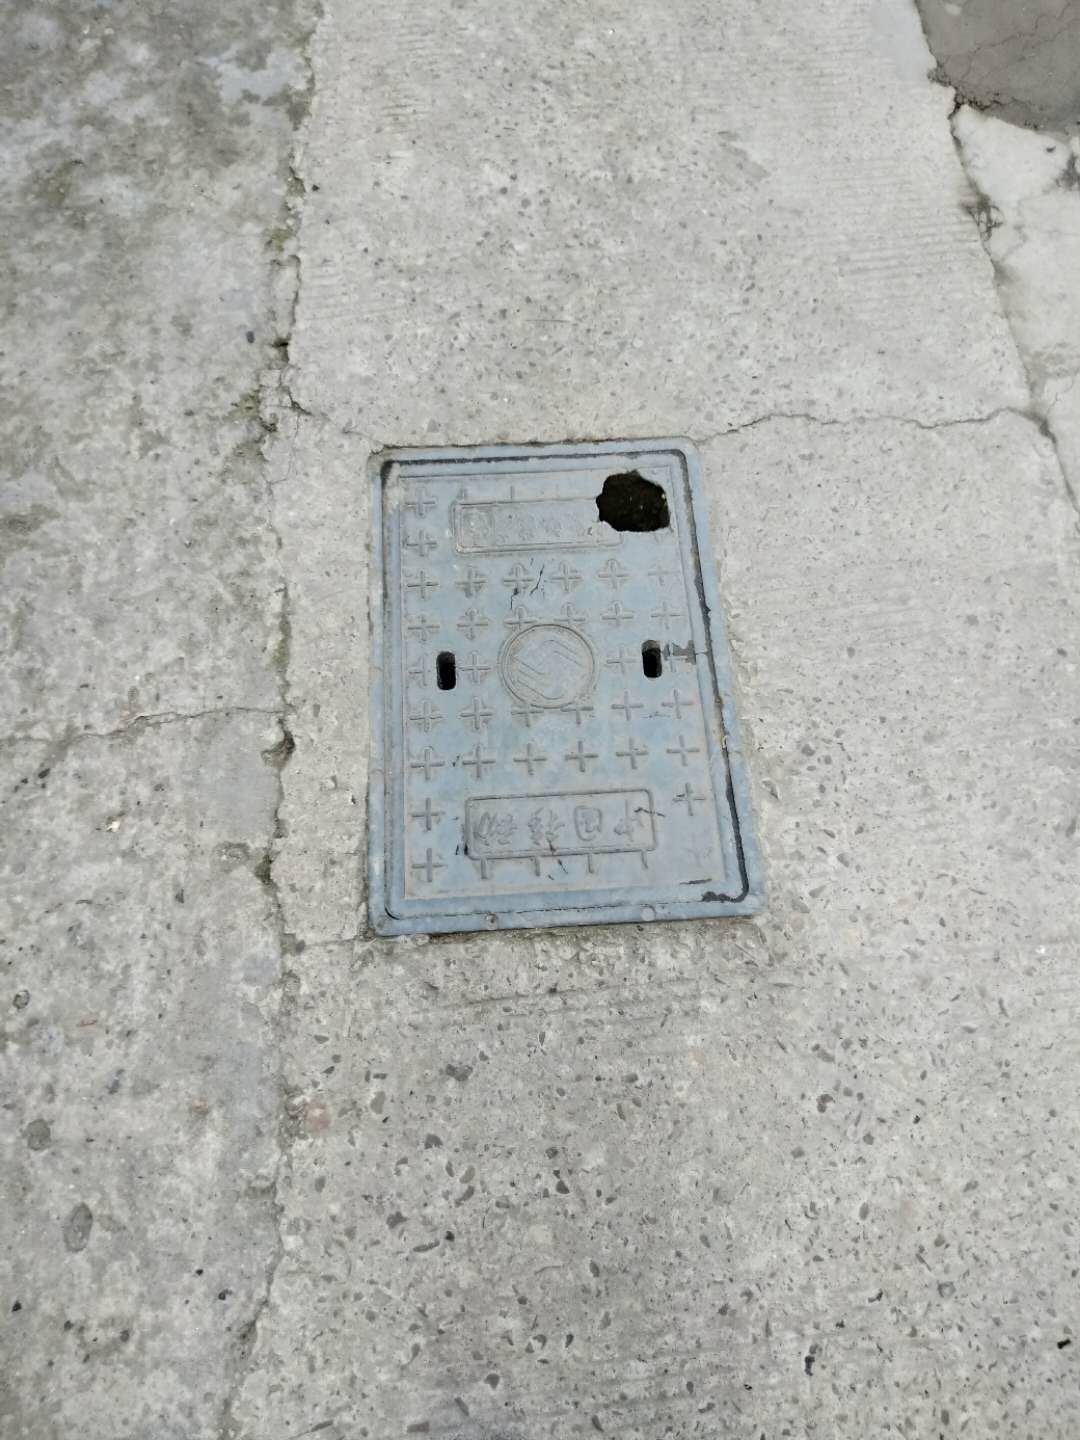broke: (365, 435, 763, 933)
